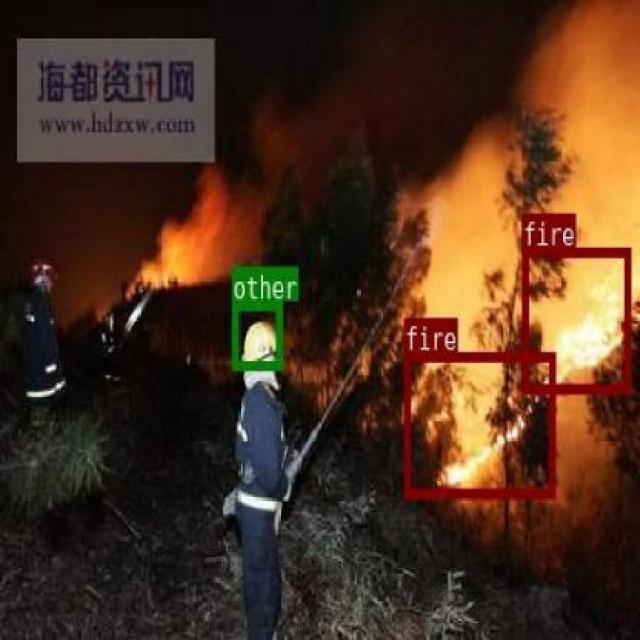Fire: (403, 350, 554, 495), (521, 246, 630, 392)
